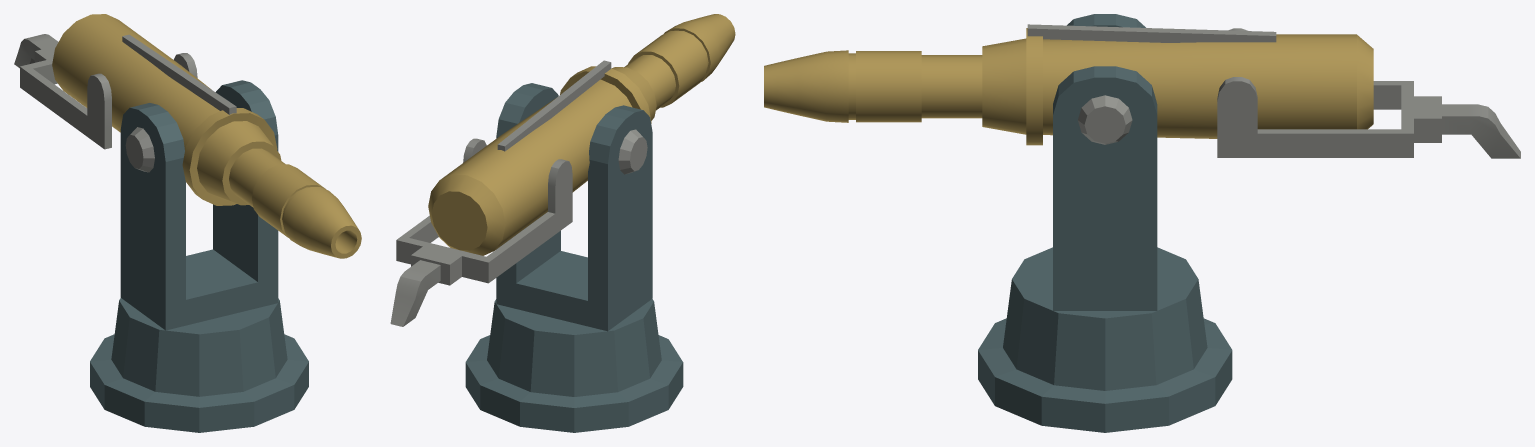
Rendered from Harpoon.fbx.
3 views of the same model, side by side, from view 1: azimuth 30°, elevation 25°; view 2: azimuth 150°, elevation 25°; view 3: azimuth 270°, elevation 25° (orthographic). The views are drawn at different scales.
Visible parts, largest first — view 1: Harpoon Platform, Cylinder.001; view 2: Harpoon Platform, Cylinder.001; view 3: Cylinder.001, Harpoon Platform.
Part boxes in pixels (box(x1,y1,x2,y2)): Harpoon Platform: box(90, 80, 308, 432); Cylinder.001: box(14, 14, 361, 258); Harpoon Platform: box(465, 83, 683, 432); Cylinder.001: box(390, 14, 735, 326); Cylinder.001: box(764, 24, 1520, 158); Harpoon Platform: box(978, 14, 1232, 432).
Size of the model in its own units: 150 by 229 by 445.
